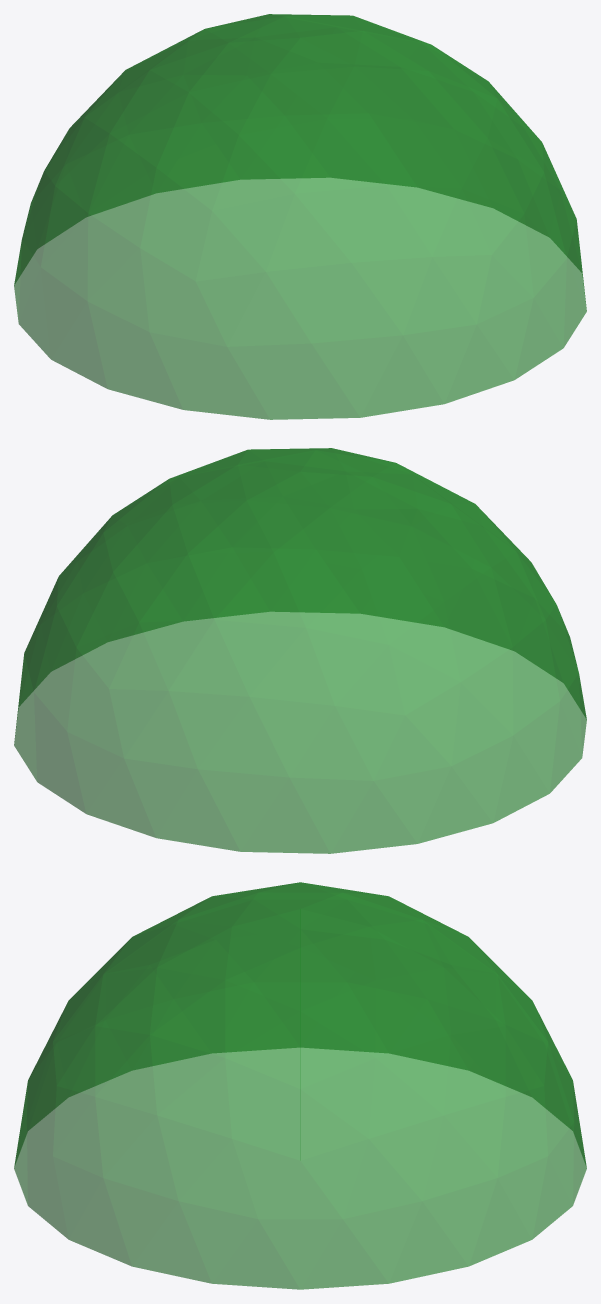
File: Force_Field.glb
3 views of the same model, one above another, from view 1: azimuth 30°, elevation 25°; view 2: azimuth 150°, elevation 25°; view 3: azimuth 270°, elevation 25° (orthographic).
Parts seen in each view (by area): view 1: ForceField; view 2: ForceField; view 3: ForceField.
Boxes of the visible parts, <box> form: ForceField: <box>14,14,586,419</box>; ForceField: <box>14,448,586,853</box>; ForceField: <box>14,882,586,1289</box>.
Size of the model in its own units: 6.77 by 3.38 by 6.77.
Materials: 1 (1 with a texture image).
